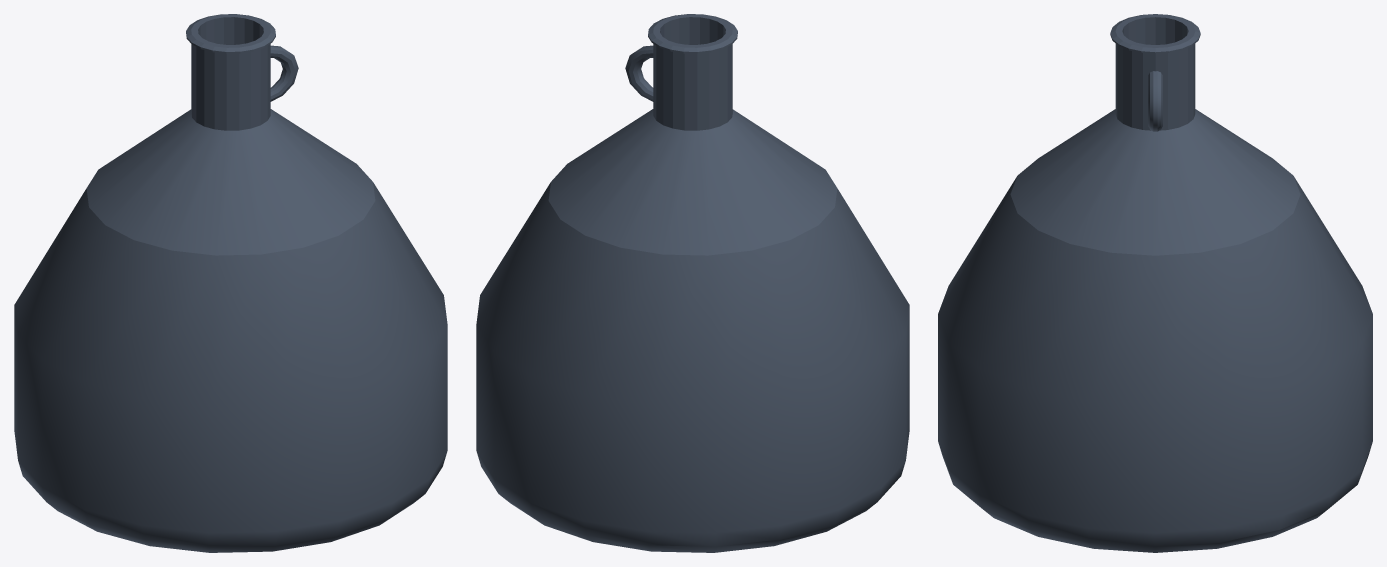
File: milk2.fbx
The picture shows the model from 3 angles, left to right: view 1: azimuth 30°, elevation 25°; view 2: azimuth 150°, elevation 25°; view 3: azimuth 270°, elevation 25°; orthographic projection.
Parts seen in each view (by area): view 1: pCylinder1, pTorus1; view 2: pCylinder1, pTorus1; view 3: pCylinder1, pTorus1.
Boxes of the visible parts, box(x1,y1,x2,y2) form: pCylinder1: box(14, 14, 447, 552); pTorus1: box(270, 45, 298, 101); pCylinder1: box(476, 14, 909, 552); pTorus1: box(625, 45, 653, 101); pCylinder1: box(938, 14, 1372, 552); pTorus1: box(1148, 71, 1162, 131).
Bounding box in the file's own units: 2 × 2.24 × 2.
